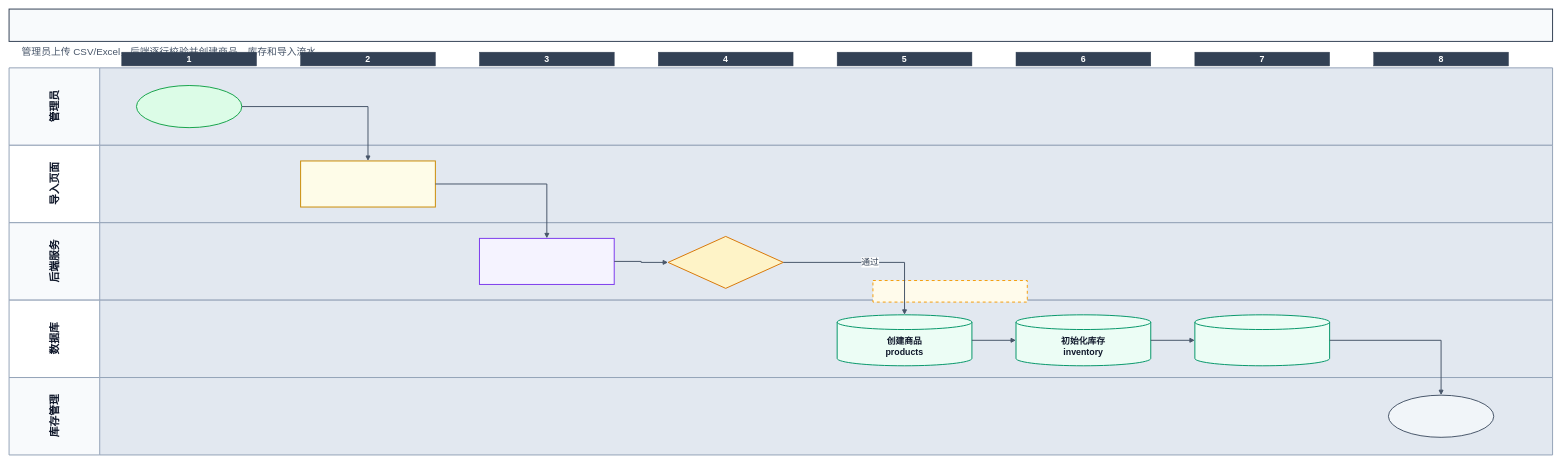
This 1561x464 diagram has some shape labels left out. The centre of each missing label's shape, as x and y in pixels:
"上传文件 /product import" goes at pixel 368 183.
"写导入流水 logs: import" goes at pixel 1262 340.
"准备导入文件 CSV/Excel" goes at pixel 189 106.
"商品批量导入泳道图" goes at pixel 780 25.
"失败行 -> 记录原因并继续处理" goes at pixel 950 291.
"解析表头与行 CSV/Excel parser" goes at pixel 546 261.
"返回成功/失败清单 库存可查询" goes at pixel 1441 416.
"逐行校验 编码/价格/数量" goes at pixel 725 262.
